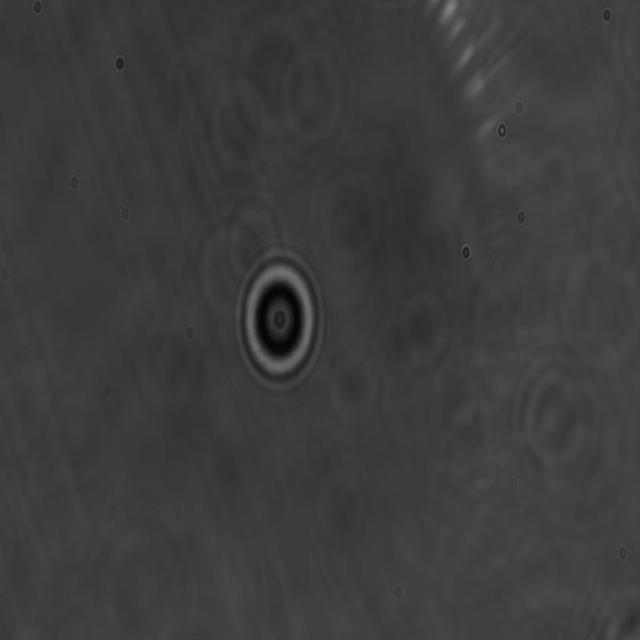LCELL: (230, 244, 329, 397)
